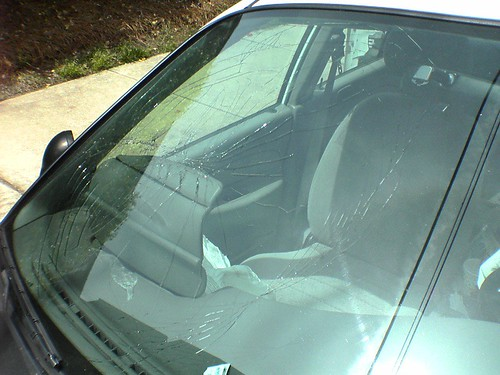car: (8, 12, 500, 375)
